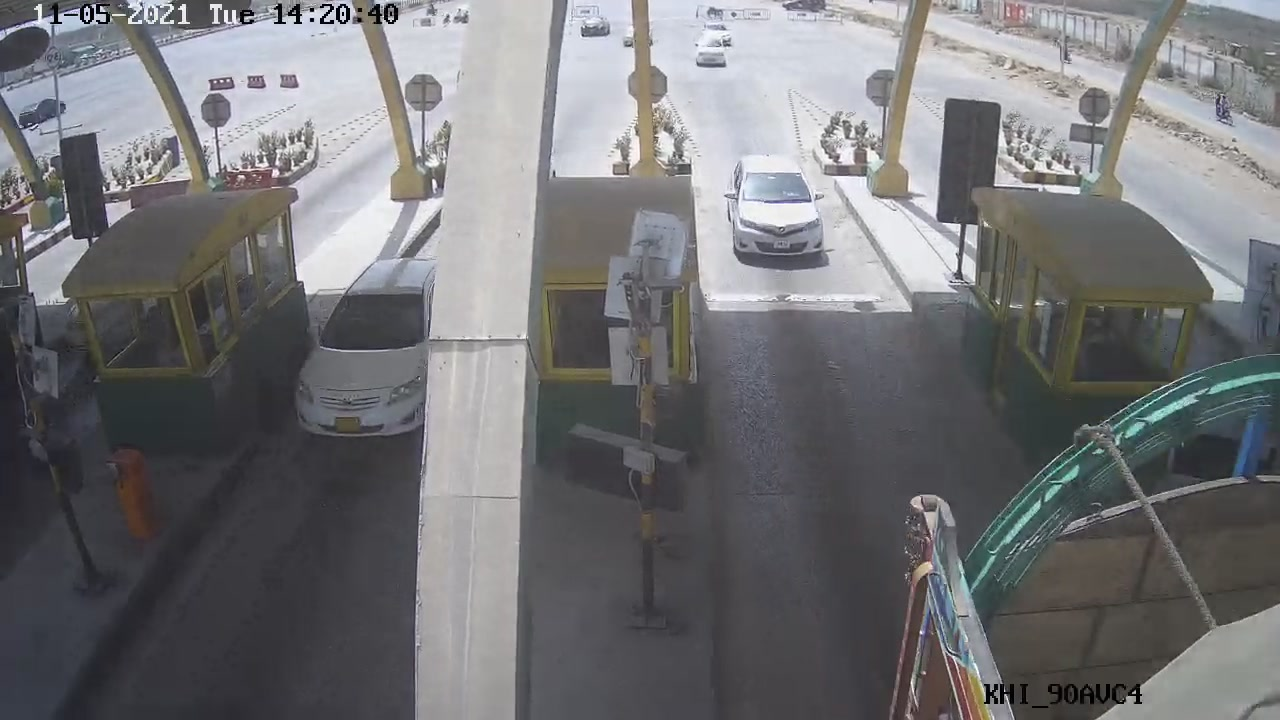F1: (731, 143, 842, 275)
